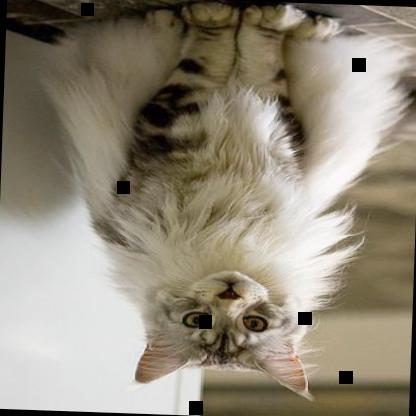cat: (42, 0, 415, 406)
